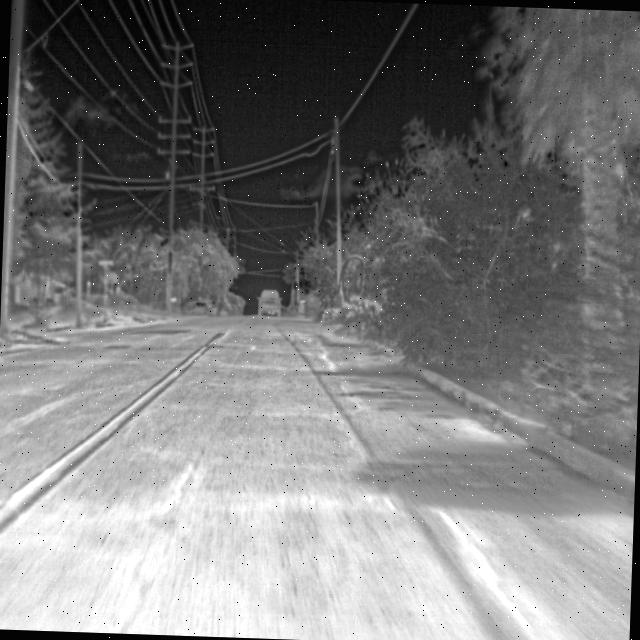Vehicle: (255, 286, 284, 320)
